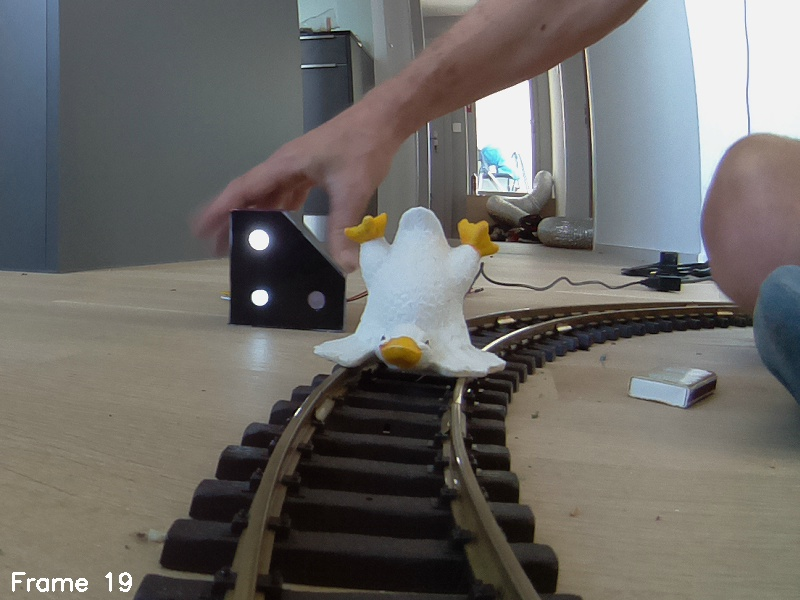Ente: (312, 192, 516, 390)
Fahrt: (229, 206, 350, 337)
